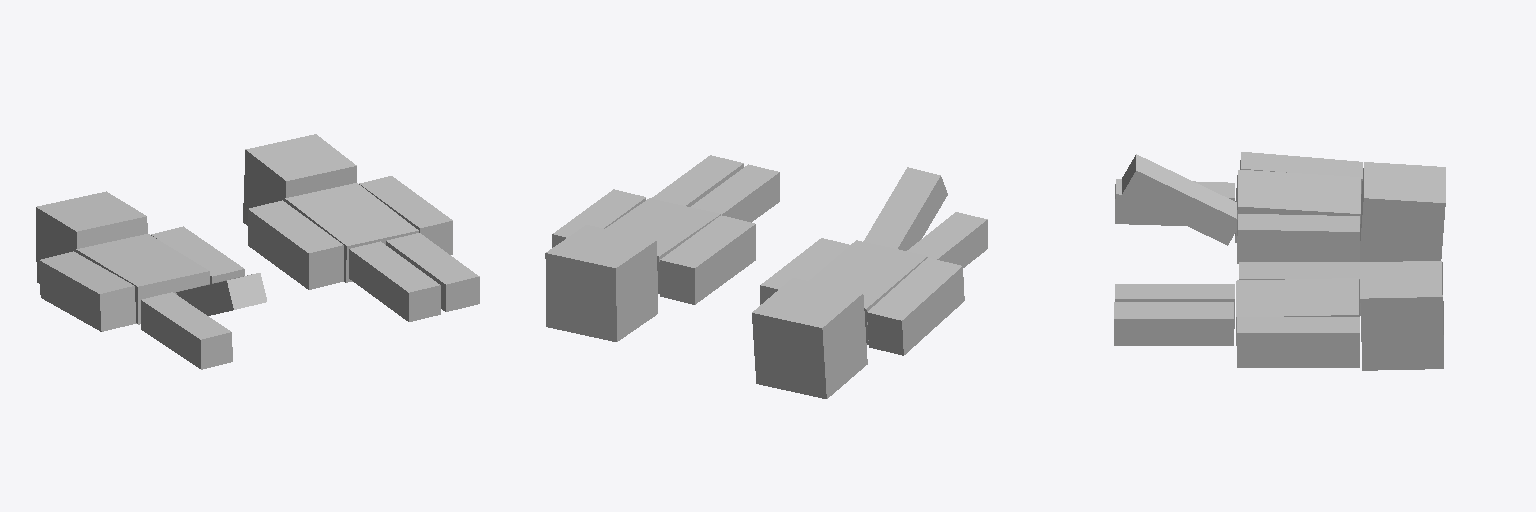
File: steve_000032.obj
The picture shows the model from 3 angles: view 1: azimuth 30°, elevation 25°; view 2: azimuth 150°, elevation 25°; view 3: azimuth 270°, elevation 25°; orthographic projection.
Parts seen in each view (by area): view 1: Cube.001_Cube.002, Cube_Cube.001; view 2: Cube_Cube.001, Cube.001_Cube.002; view 3: Cube.001_Cube.002, Cube_Cube.001.
Boxes of the visible parts, box(x1,y1,x2,y2) form: Cube.001_Cube.002: box(243, 134, 479, 321); Cube_Cube.001: box(36, 191, 266, 369); Cube_Cube.001: box(752, 167, 987, 398); Cube.001_Cube.002: box(545, 155, 779, 341); Cube.001_Cube.002: box(1114, 261, 1443, 370); Cube_Cube.001: box(1115, 152, 1445, 263).
Bounding box in the file's own units: 6.55 × 1.88 × 5.36.